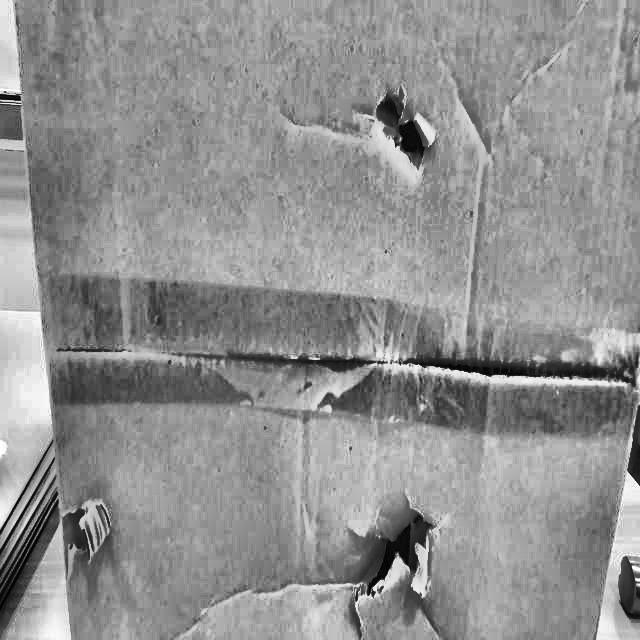box: (6, 0, 639, 639)
hole: (353, 494, 439, 590), (367, 74, 436, 172)
